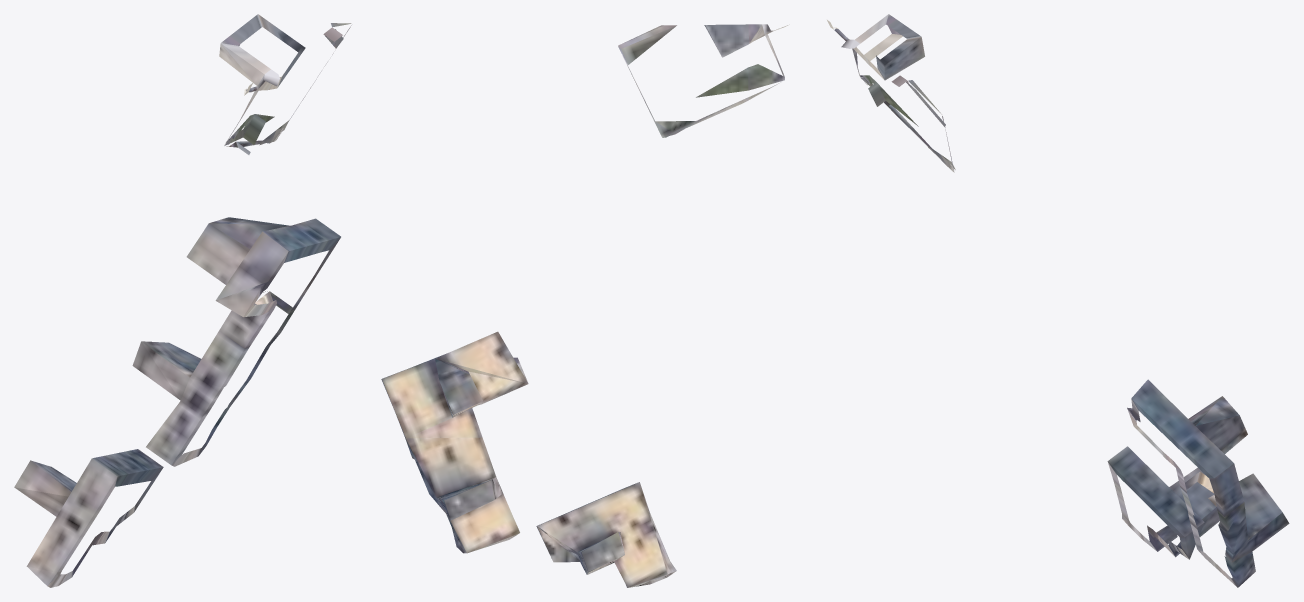
The picture shows the model from 3 angles, left to right: view 1: azimuth 30°, elevation 25°; view 2: azimuth 150°, elevation 25°; view 3: azimuth 270°, elevation 25°; orthographic projection. The views are drawn at different scales.
Bounding box in the file's own units: 55.05 × 97.94 × 77.47.
1 material, 1 textured.
